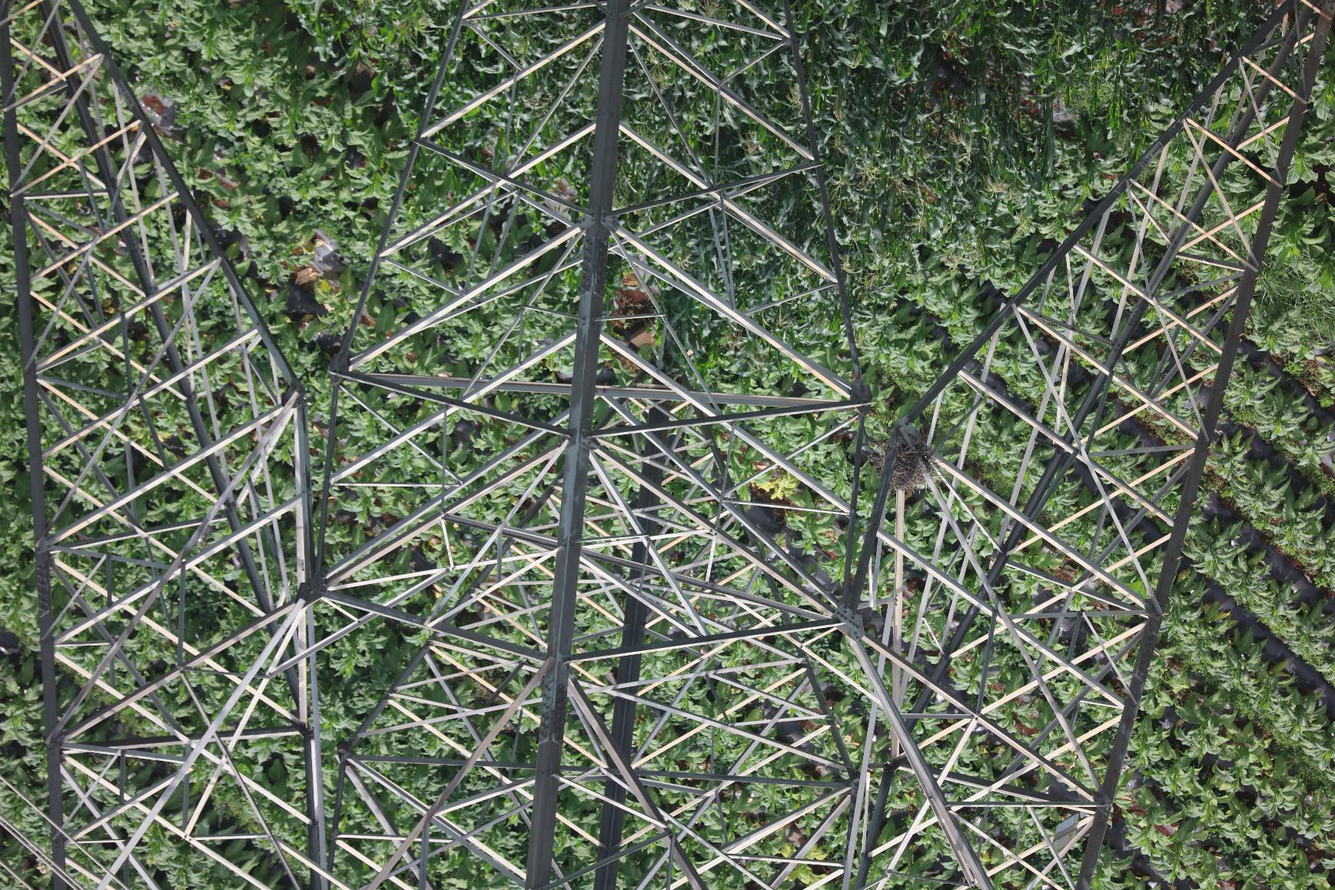nest: (868, 433, 941, 493)
